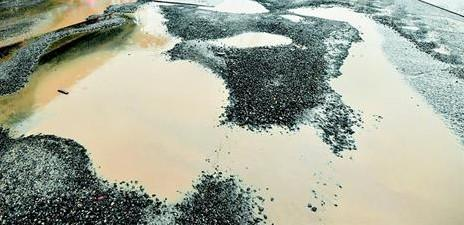pothole: (0, 46, 237, 206), (237, 73, 464, 225), (285, 1, 456, 73), (0, 0, 132, 51), (191, 25, 298, 49), (136, 1, 271, 20)
